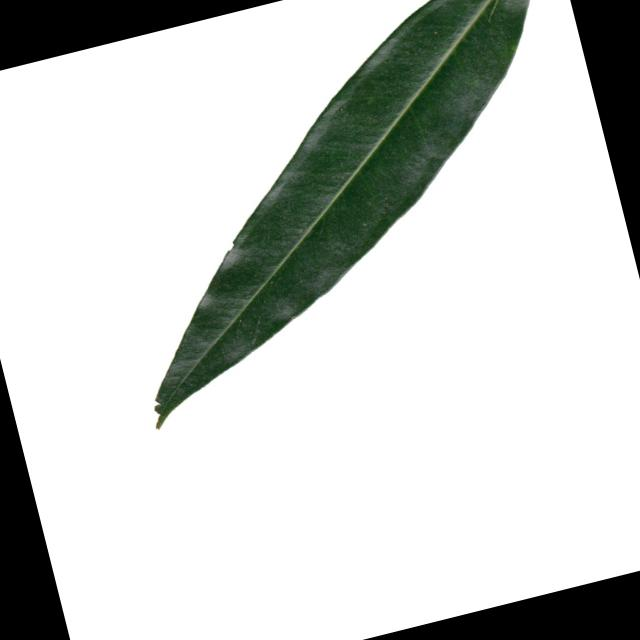Medicinal-Rose Apple: (66, 0, 638, 421)
